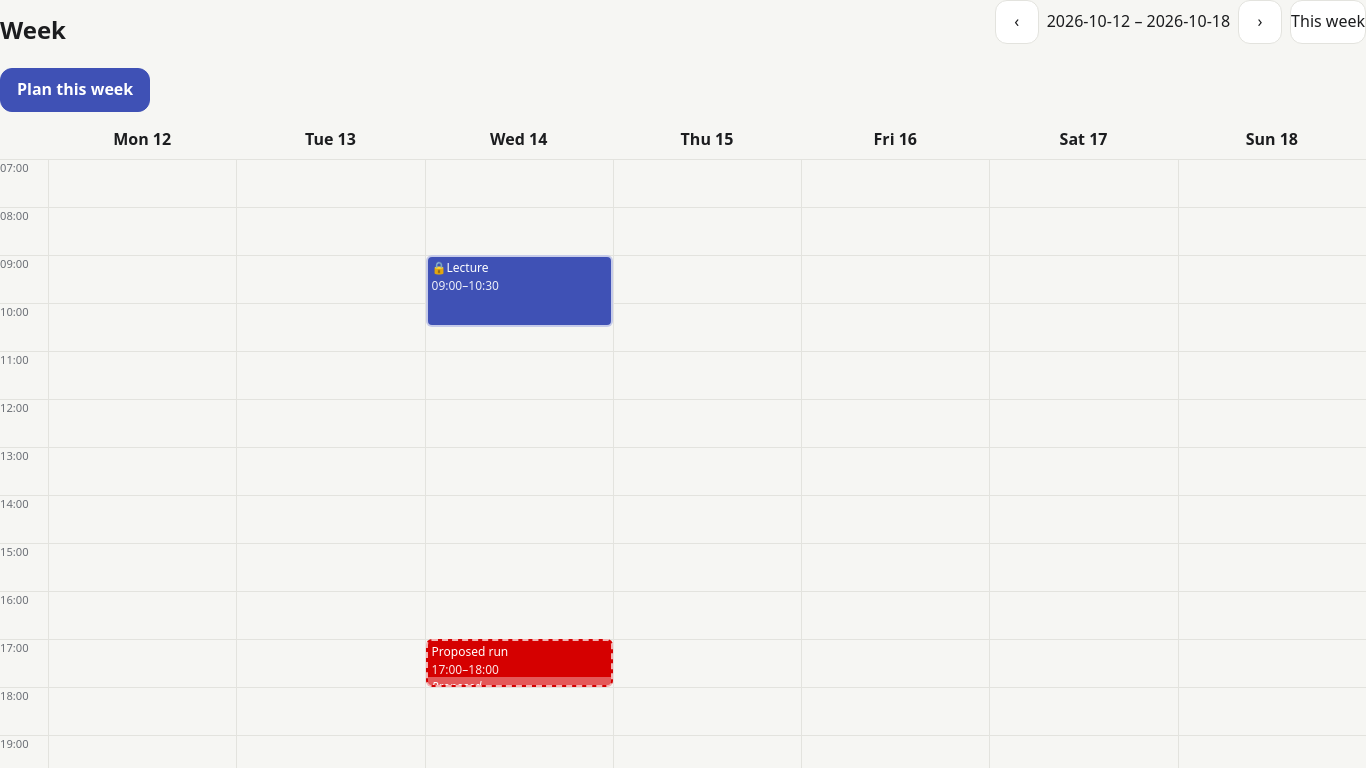
Test case: WeekPage › details dialog follows the refetched block instead of going stale
Click the text "Lecture".
click(460, 268)  # box [432,259,489,277]
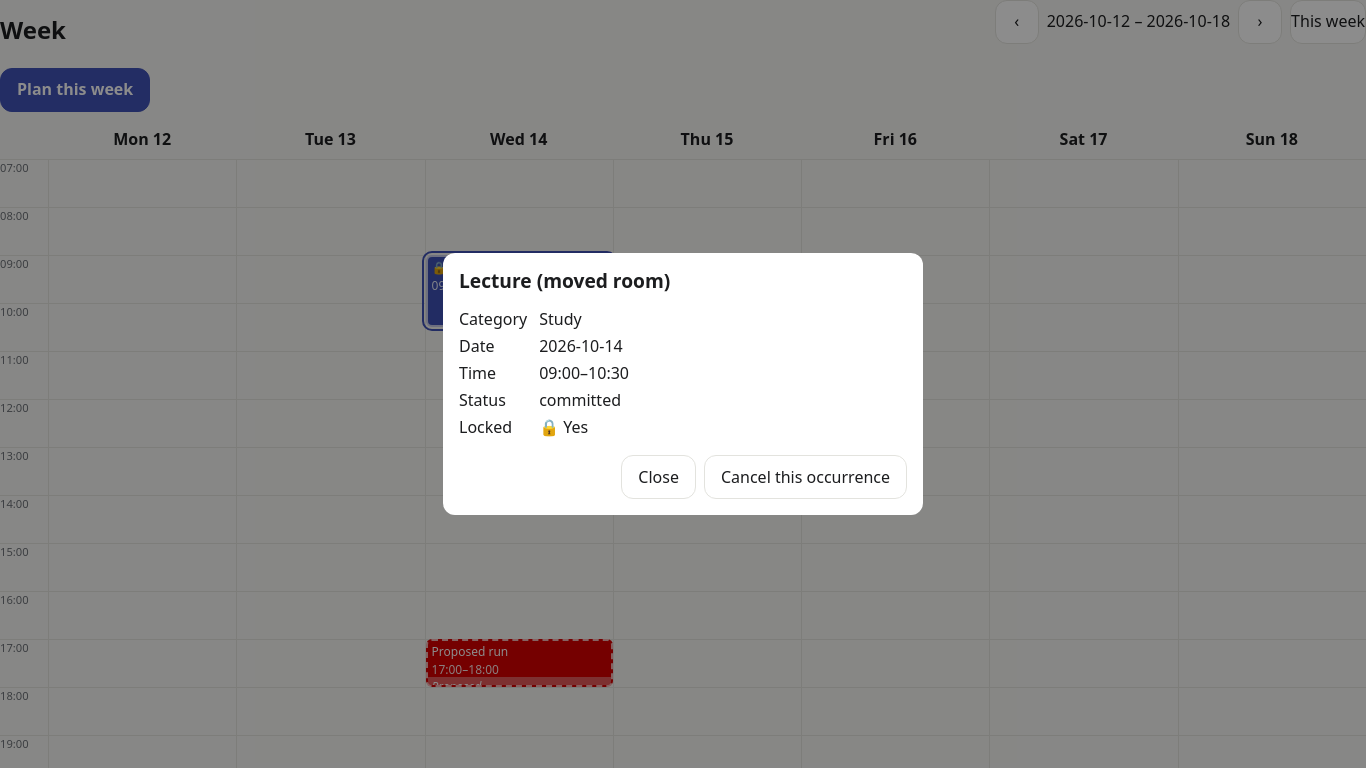
Check: the dialog "Lecture (moved room)" is shown, box [443,252,923,516]
